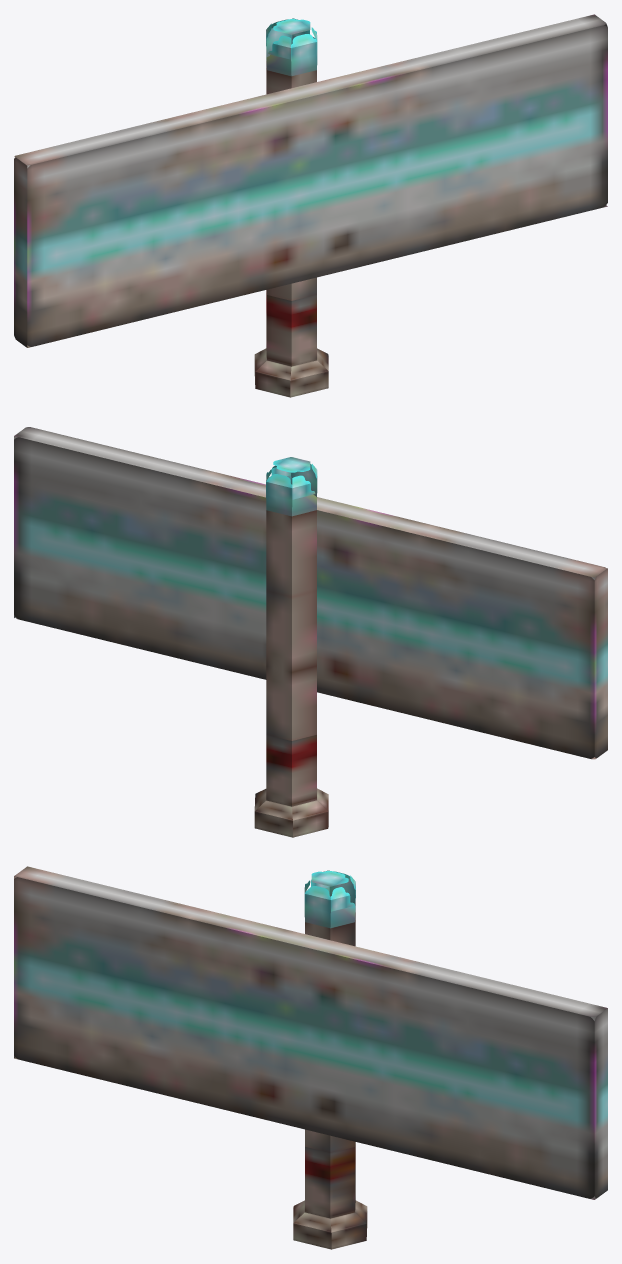
Rendered from Poly_SF_Outside_B_Guardrail_01.obj.
3 renders of one model, top to bottom at view 1: azimuth 30°, elevation 25°; view 2: azimuth 150°, elevation 25°; view 3: azimuth 330°, elevation 25°, orthographic.
Visible parts, largest first — view 1: Cube.001; view 2: Cube.001; view 3: Cube.001.
Boxes of the visible parts, x1,y1,x2,y2 form: Cube.001: [14, 14, 607, 397]; Cube.001: [14, 427, 607, 837]; Cube.001: [14, 866, 607, 1249].
Size of the model in its own units: 1 by 0.5827 by 0.131.
1 material, 1 textured.
